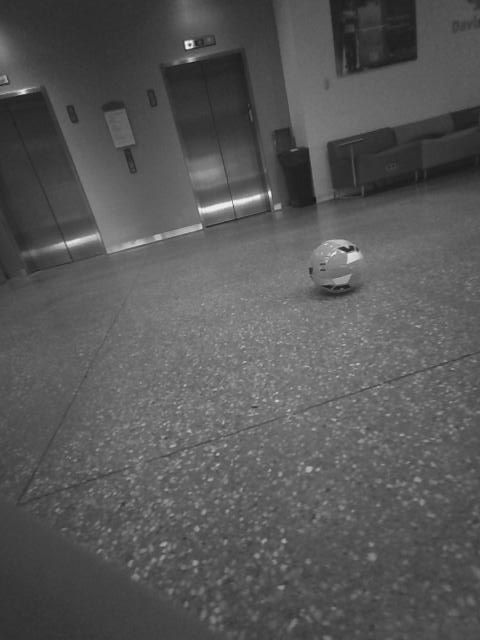ball: (301, 232, 375, 306)
